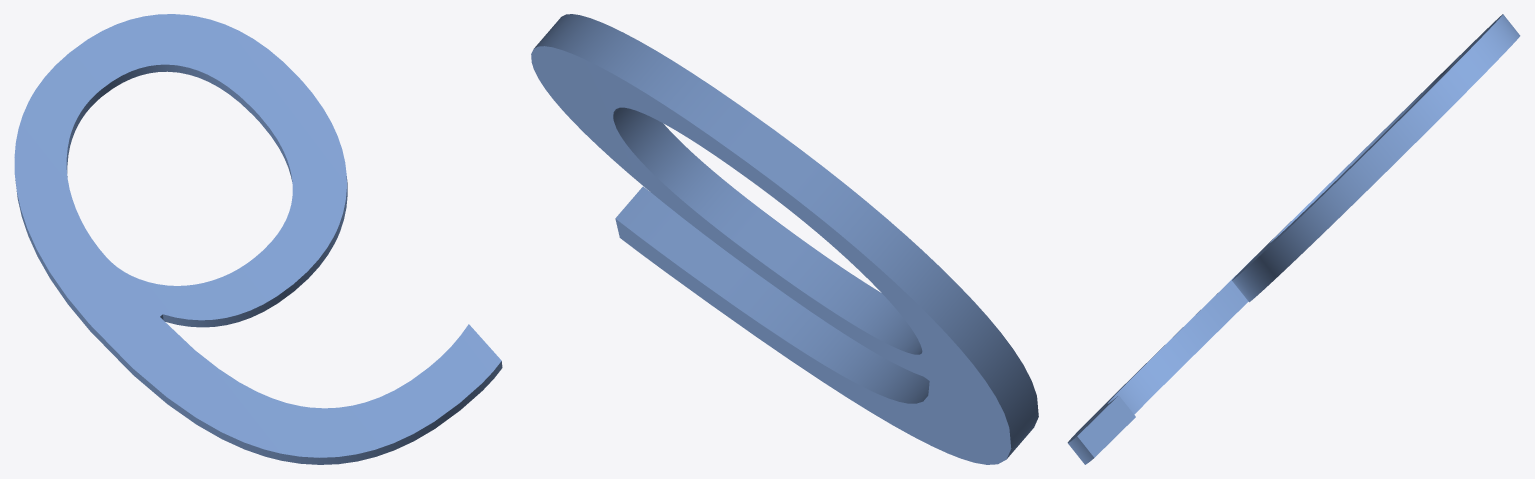
File: New_Number_6.gltf
3 views of the same model, side by side, from view 1: azimuth 30°, elevation 25°; view 2: azimuth 150°, elevation 25°; view 3: azimuth 270°, elevation 25° (orthographic). The views are drawn at different scales.
Visible parts, largest first — view 1: Part 402; view 2: Part 402; view 3: Part 402.
Part boxes in pixels (x1,y1,x2,y2): Part 402: (14,14,502,464); Part 402: (531,14,1038,464); Part 402: (1067,14,1520,464).
Size of the model in its own units: 0.0043 by 0.00403 by 0.00418.
